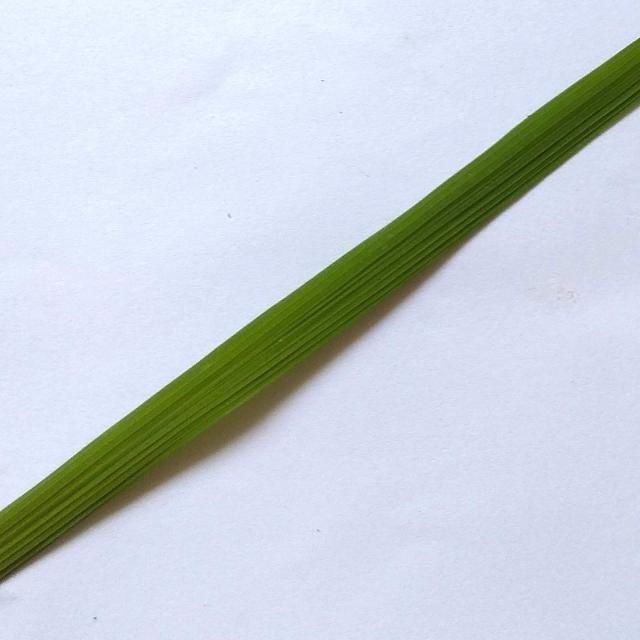healthy: (0, 37, 640, 597)
